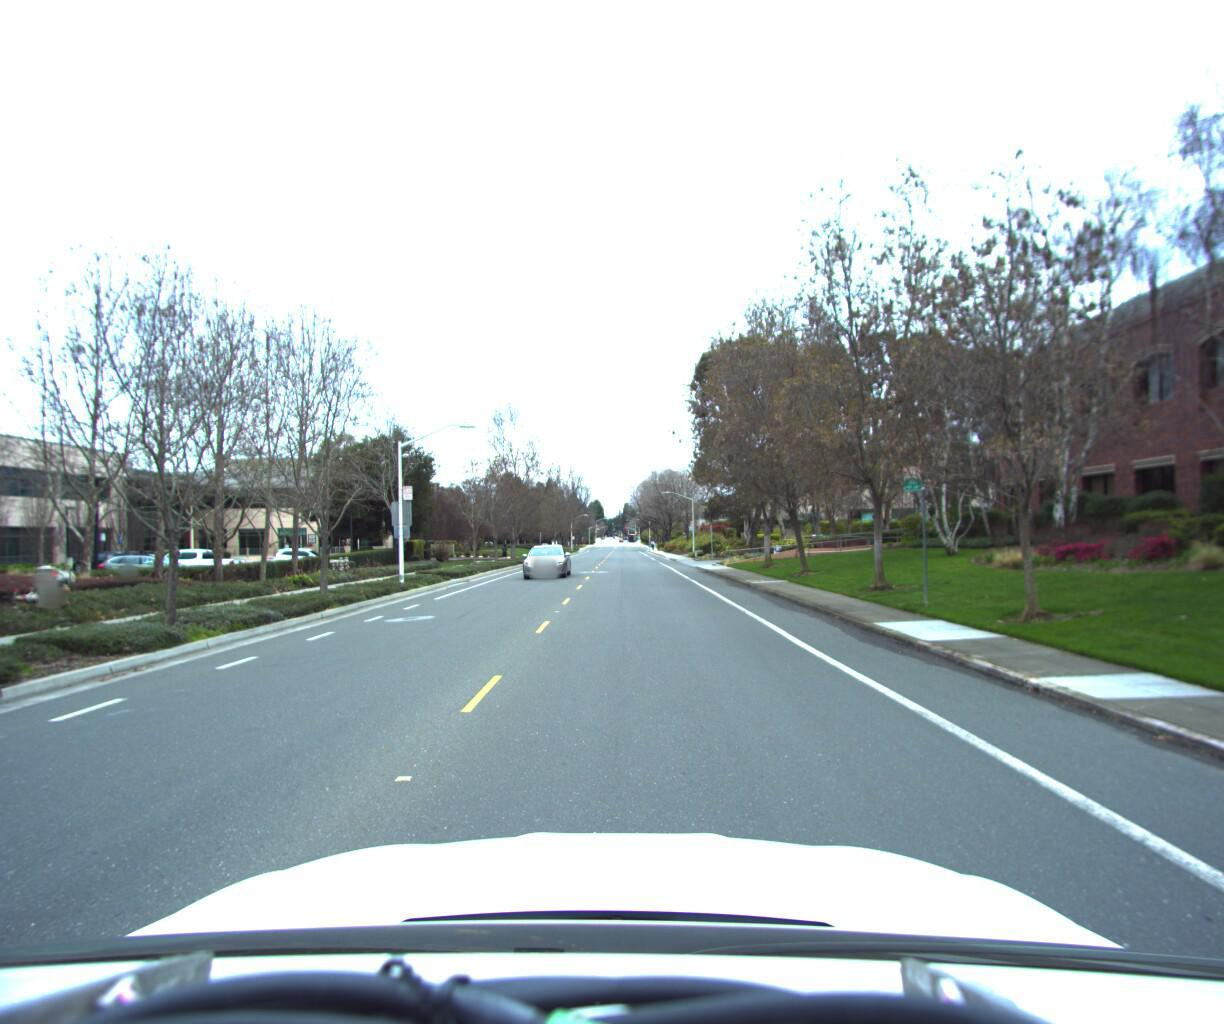car: (522, 544, 574, 580)
